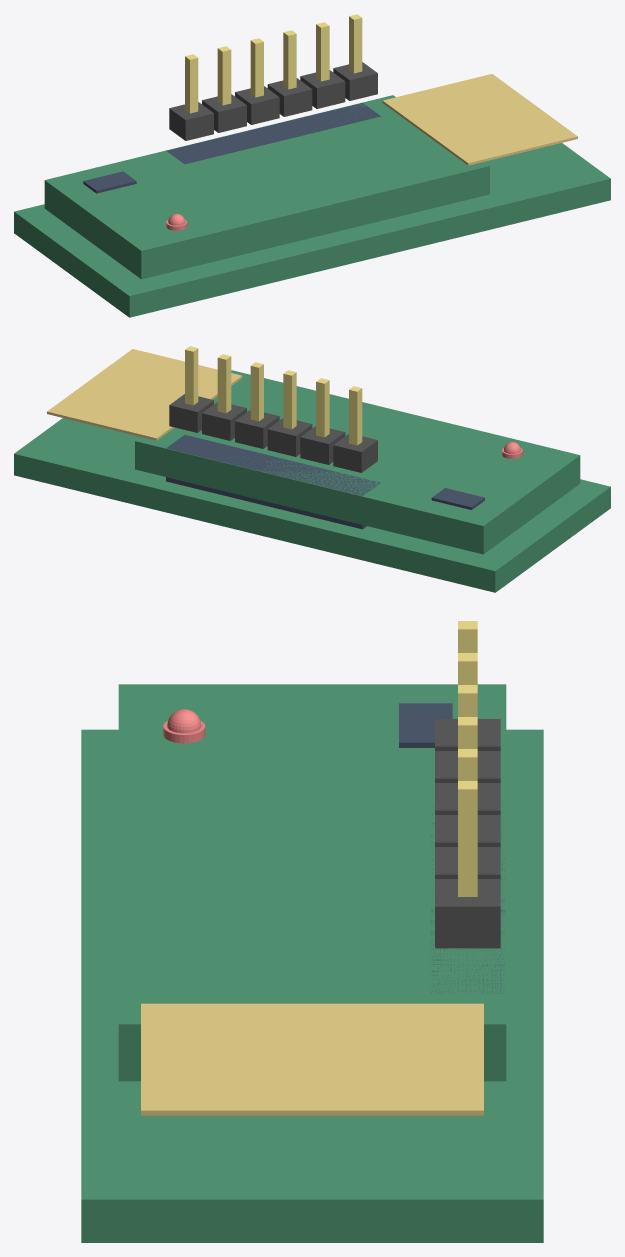
The model's file is hc-05-bluetooth.glb.
The picture shows the model from 3 angles, top to bottom: view 1: azimuth 30°, elevation 25°; view 2: azimuth 150°, elevation 25°; view 3: azimuth 270°, elevation 25°; orthographic projection. The views are drawn at different scales.
Parts seen in each view (by area): view 1: hc-05-bluetooth_mesh; view 2: hc-05-bluetooth_mesh; view 3: hc-05-bluetooth_mesh.
Boxes of the visible parts, <box> form: hc-05-bluetooth_mesh: <box>14,14,610,317</box>; hc-05-bluetooth_mesh: <box>14,346,610,592</box>; hc-05-bluetooth_mesh: <box>81,621,543,1242</box>.
Bounding box in the file's own units: 37.3 × 11.2 × 15.5.
